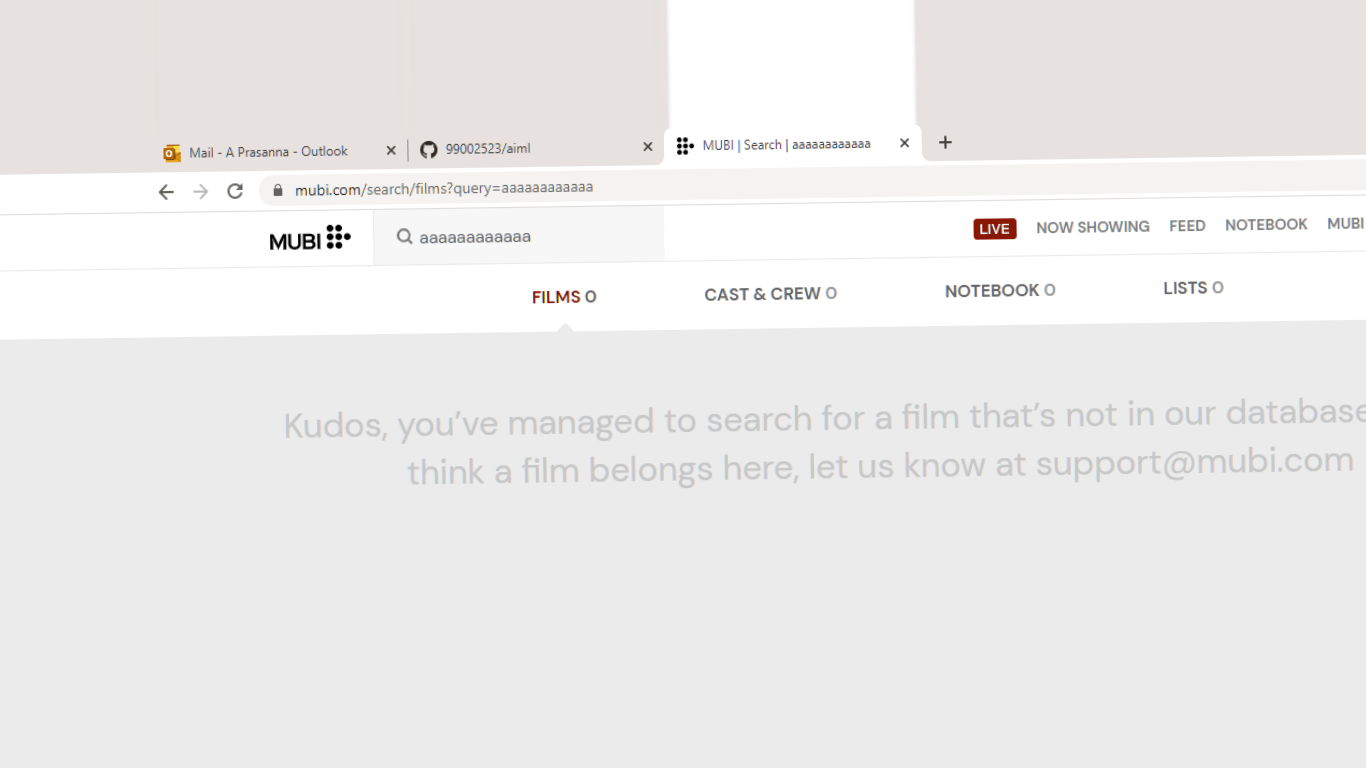noresultsfound: (263, 366, 1359, 501)
searchicon: (390, 225, 415, 253)
searchtextbox: (370, 208, 659, 266)
